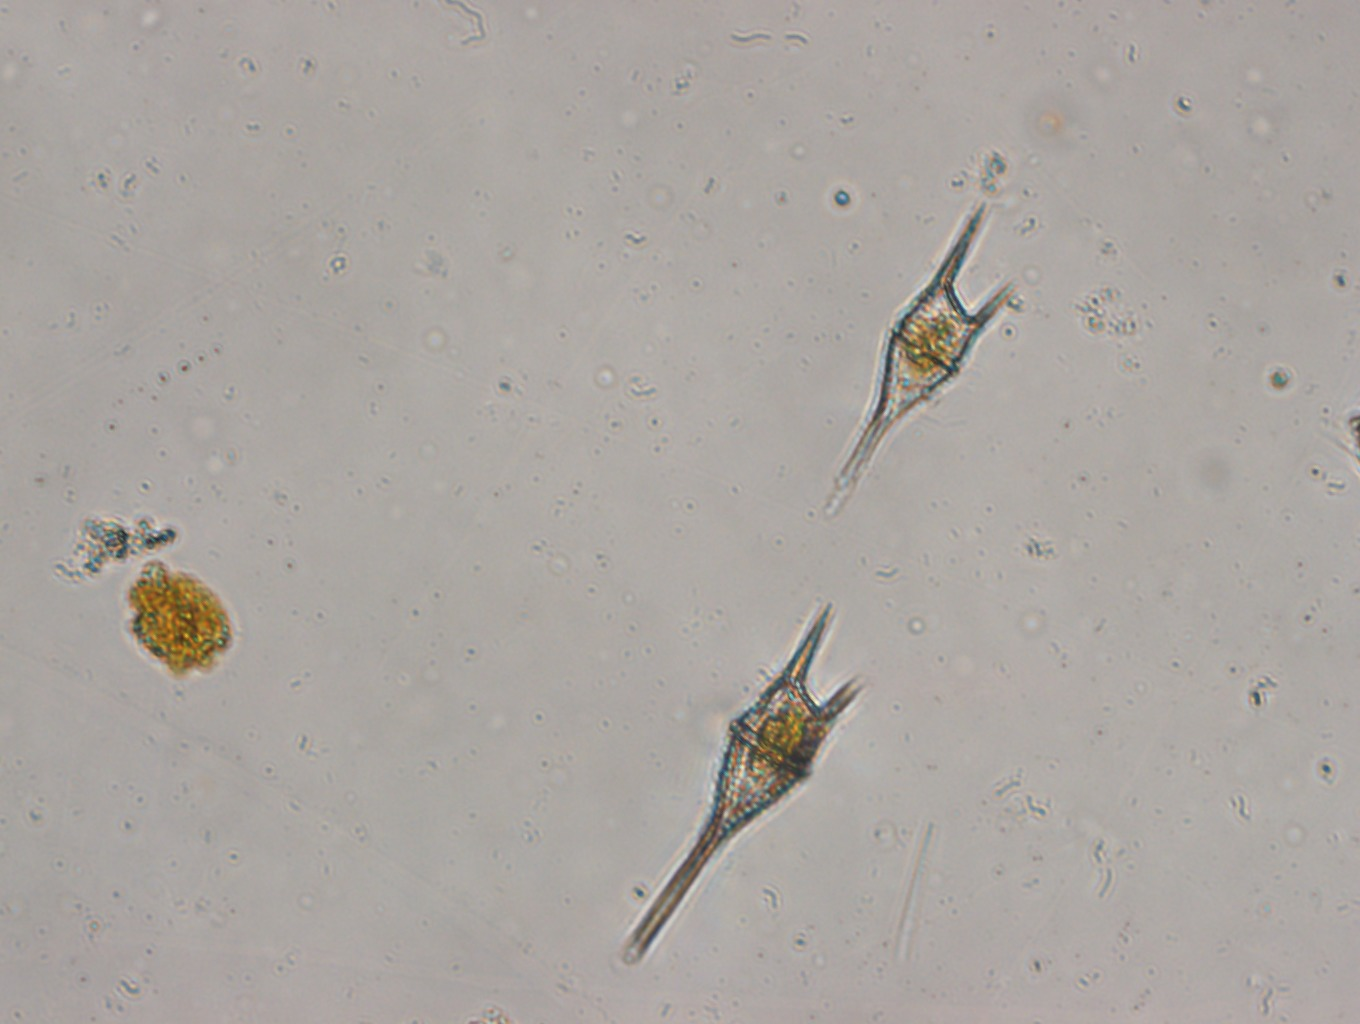ceratium furca: (622, 592, 867, 966), (819, 198, 1023, 517)
